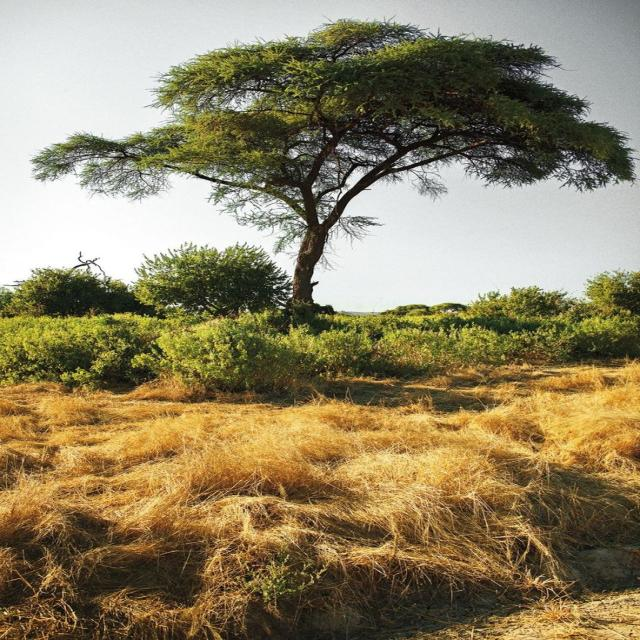Acacia: (58, 38, 625, 296)
